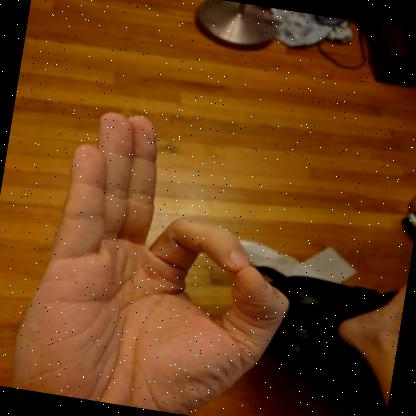F: (11, 111, 289, 415)
